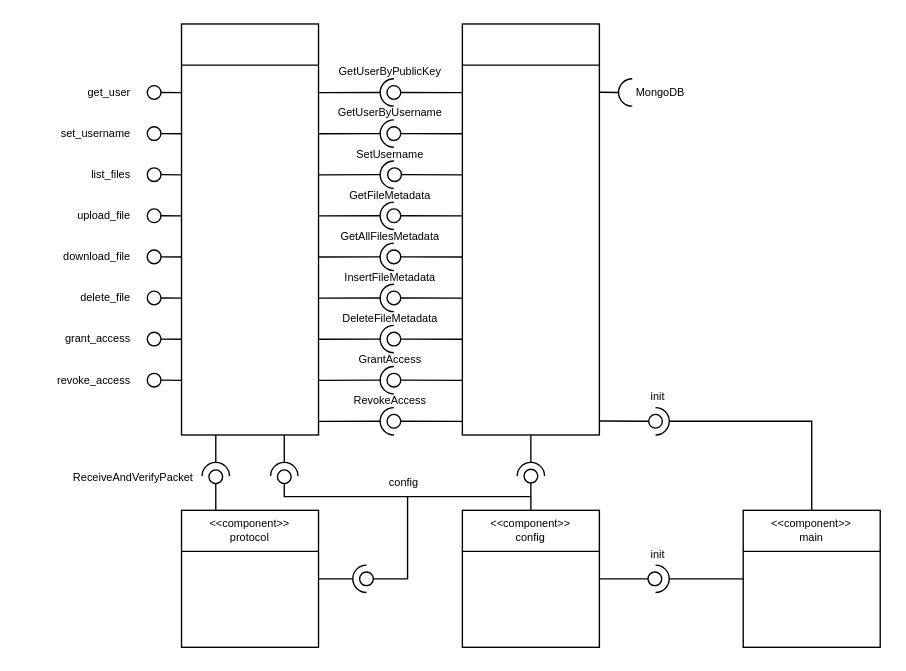
This 906x671 diagram has some shape labels left out. Each missing label, with the box of its shape:
<<component>> db: (461, 23, 599, 435)
<<component>> handlers: (180, 23, 319, 435)
